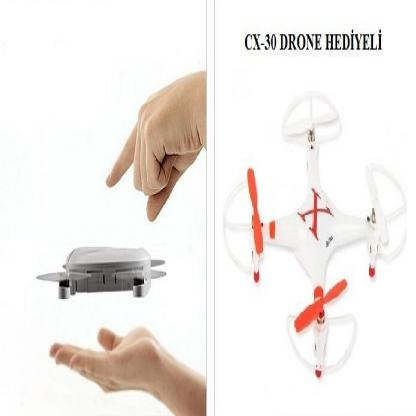drone: (220, 95, 403, 367), (33, 234, 176, 307)
